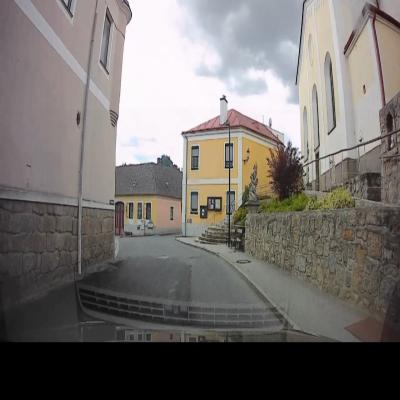clear-road: (83, 234, 262, 303)
